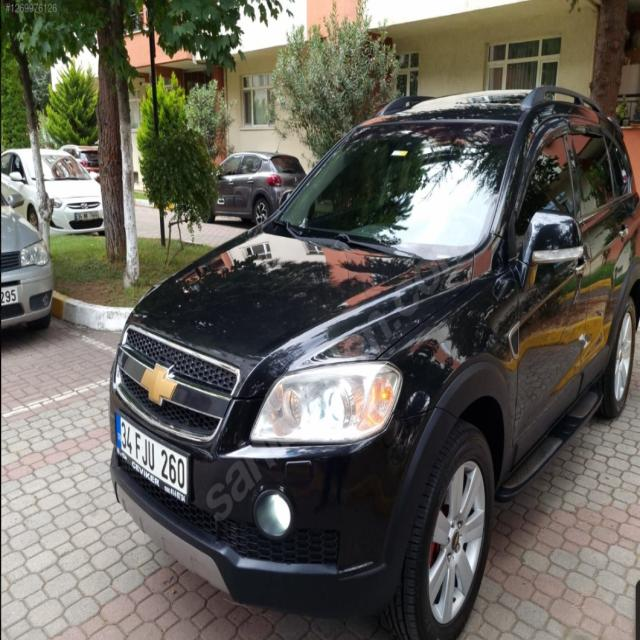chevrolet: (138, 357, 186, 417)
